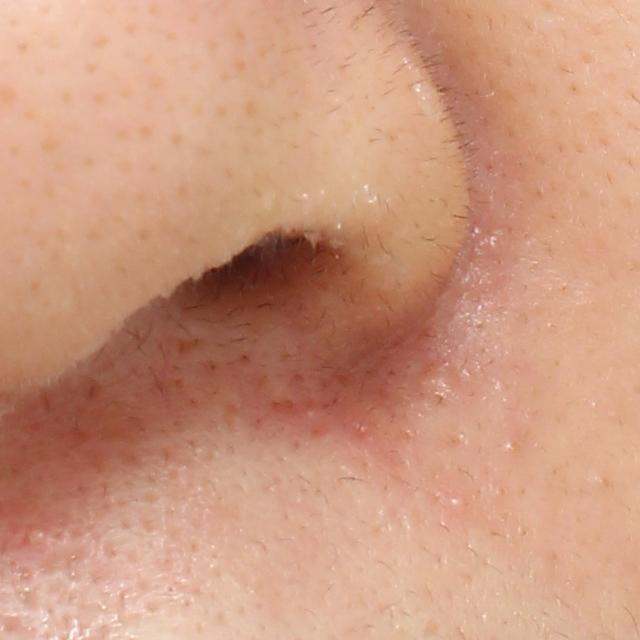comedo: (446, 488, 475, 516), (495, 434, 522, 463)
